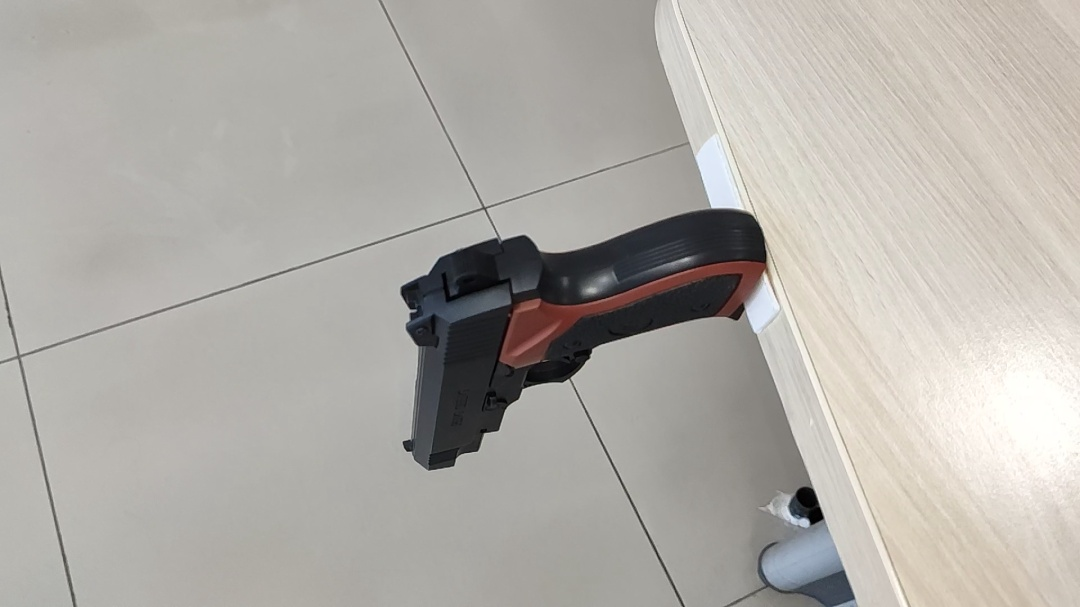gun: (676, 215, 910, 395)
